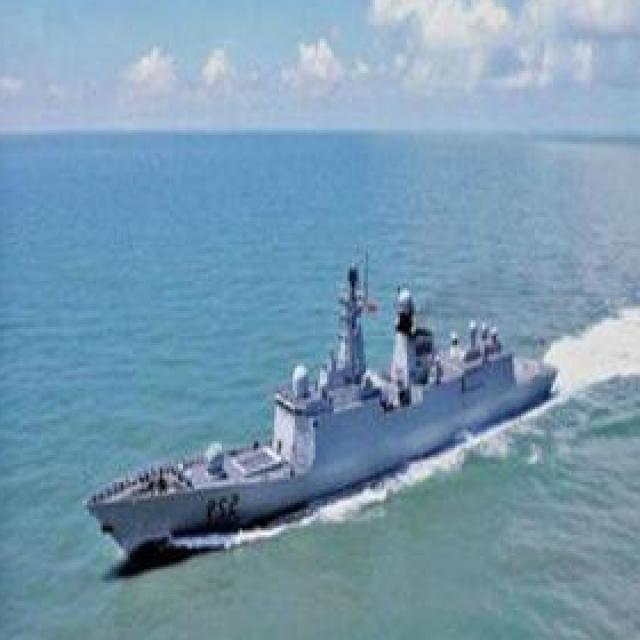navalvessels: (90, 245, 575, 560)
